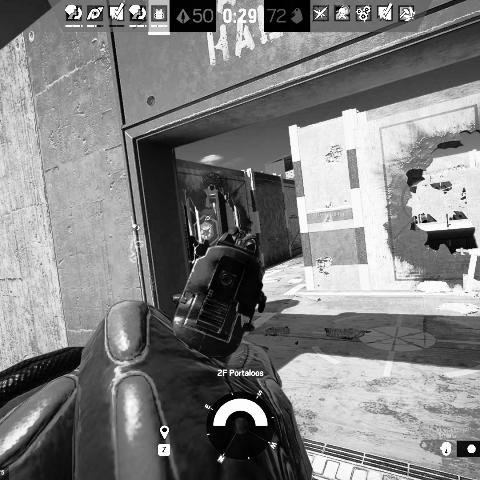Character: (228, 225, 268, 333)
Friend_label: (314, 201, 345, 217), (128, 223, 144, 239), (200, 214, 215, 230)
Head: (229, 226, 242, 239)
